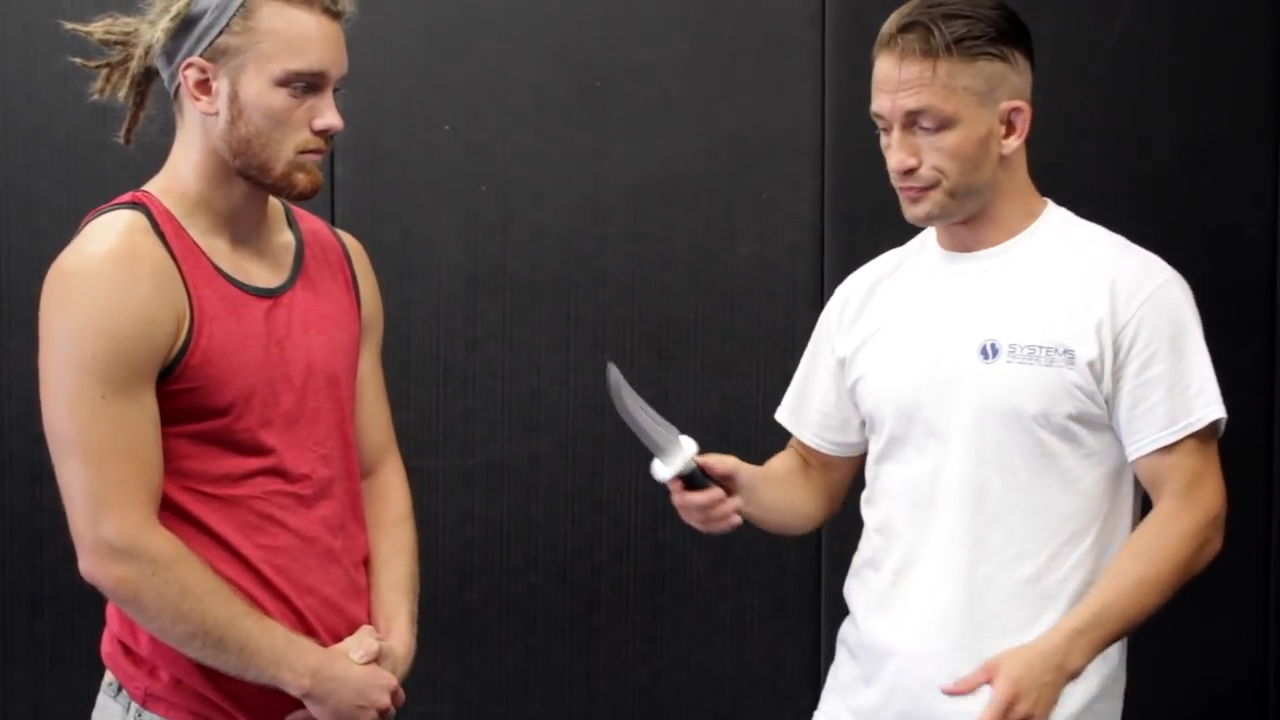knife: (593, 342, 744, 537)
